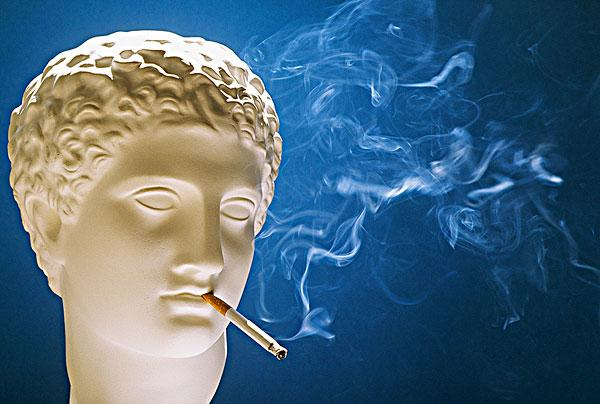smoke: (202, 292, 290, 362)
